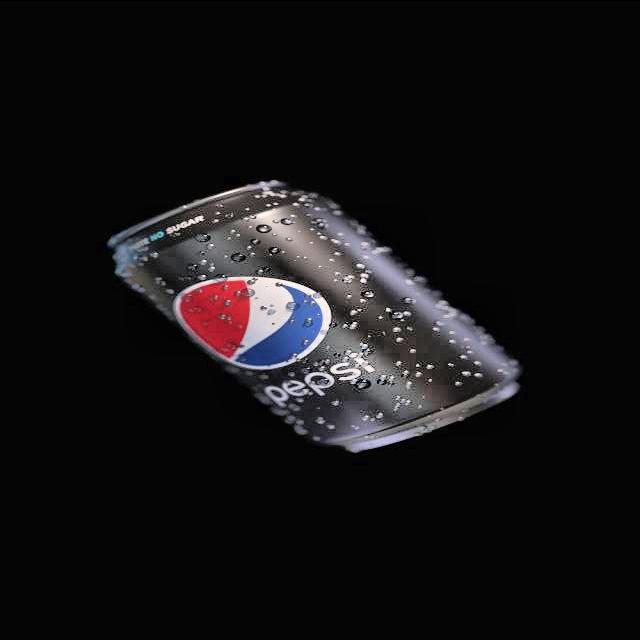litter: (91, 160, 540, 476)
